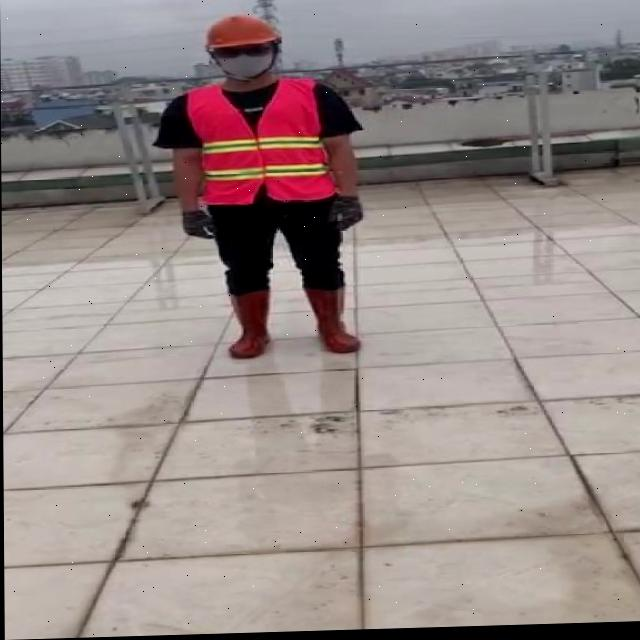Gloves: (325, 196, 361, 232), (181, 210, 215, 241)
Safety-Boot: (303, 284, 359, 356), (226, 289, 270, 359)
Safety-Vest: (184, 77, 337, 208)
